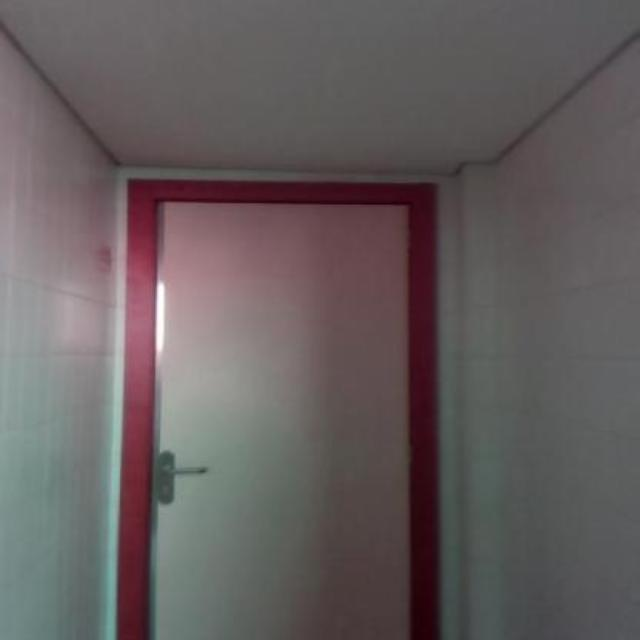door: (146, 189, 416, 639)
